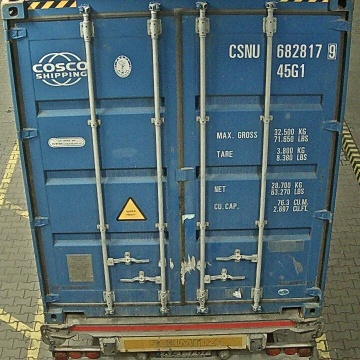serial_id: (229, 43, 337, 57)
